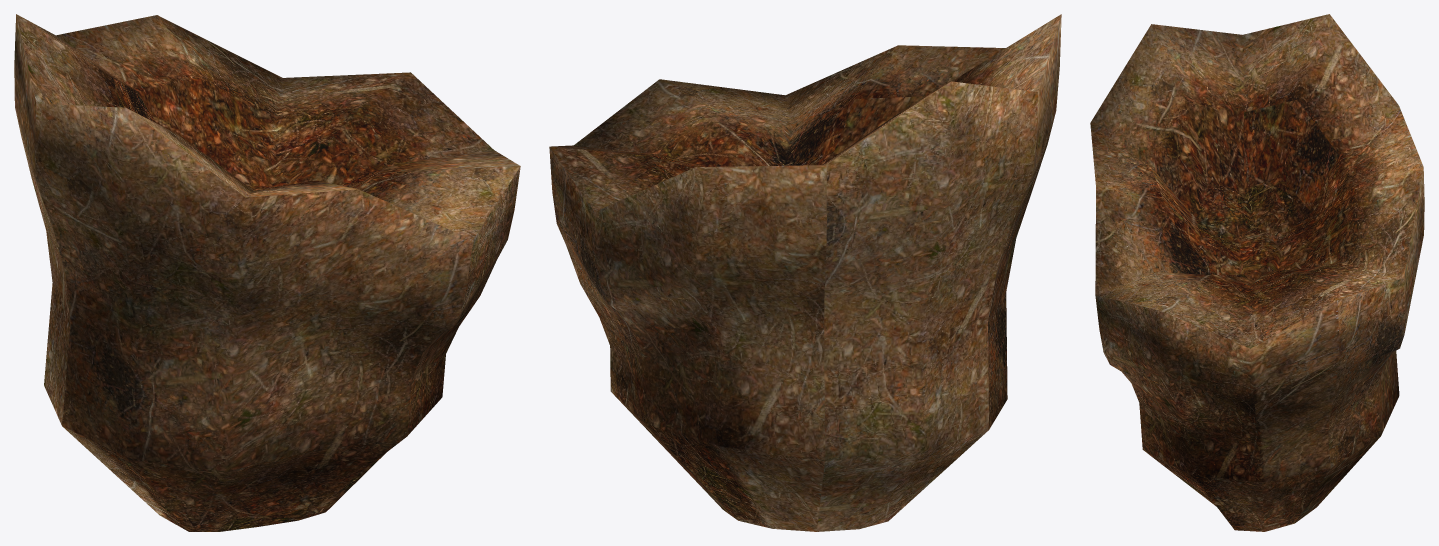
The model's file is gavi-nest.glb.
The picture shows the model from 3 angles, left to right: view 1: azimuth 30°, elevation 25°; view 2: azimuth 150°, elevation 25°; view 3: azimuth 270°, elevation 25°; orthographic projection. The views are drawn at different scales.
Parts seen in each view (by area): view 1: nest; view 2: nest; view 3: nest.
Part boxes in pixels (box(x1,y1,x2,y2)): nest: box(14, 14, 520, 531); nest: box(549, 14, 1061, 531); nest: box(1090, 14, 1424, 531).
Bounding box in the file's own units: 1.27 × 1.35 × 0.9814.
1 material, 1 textured.
